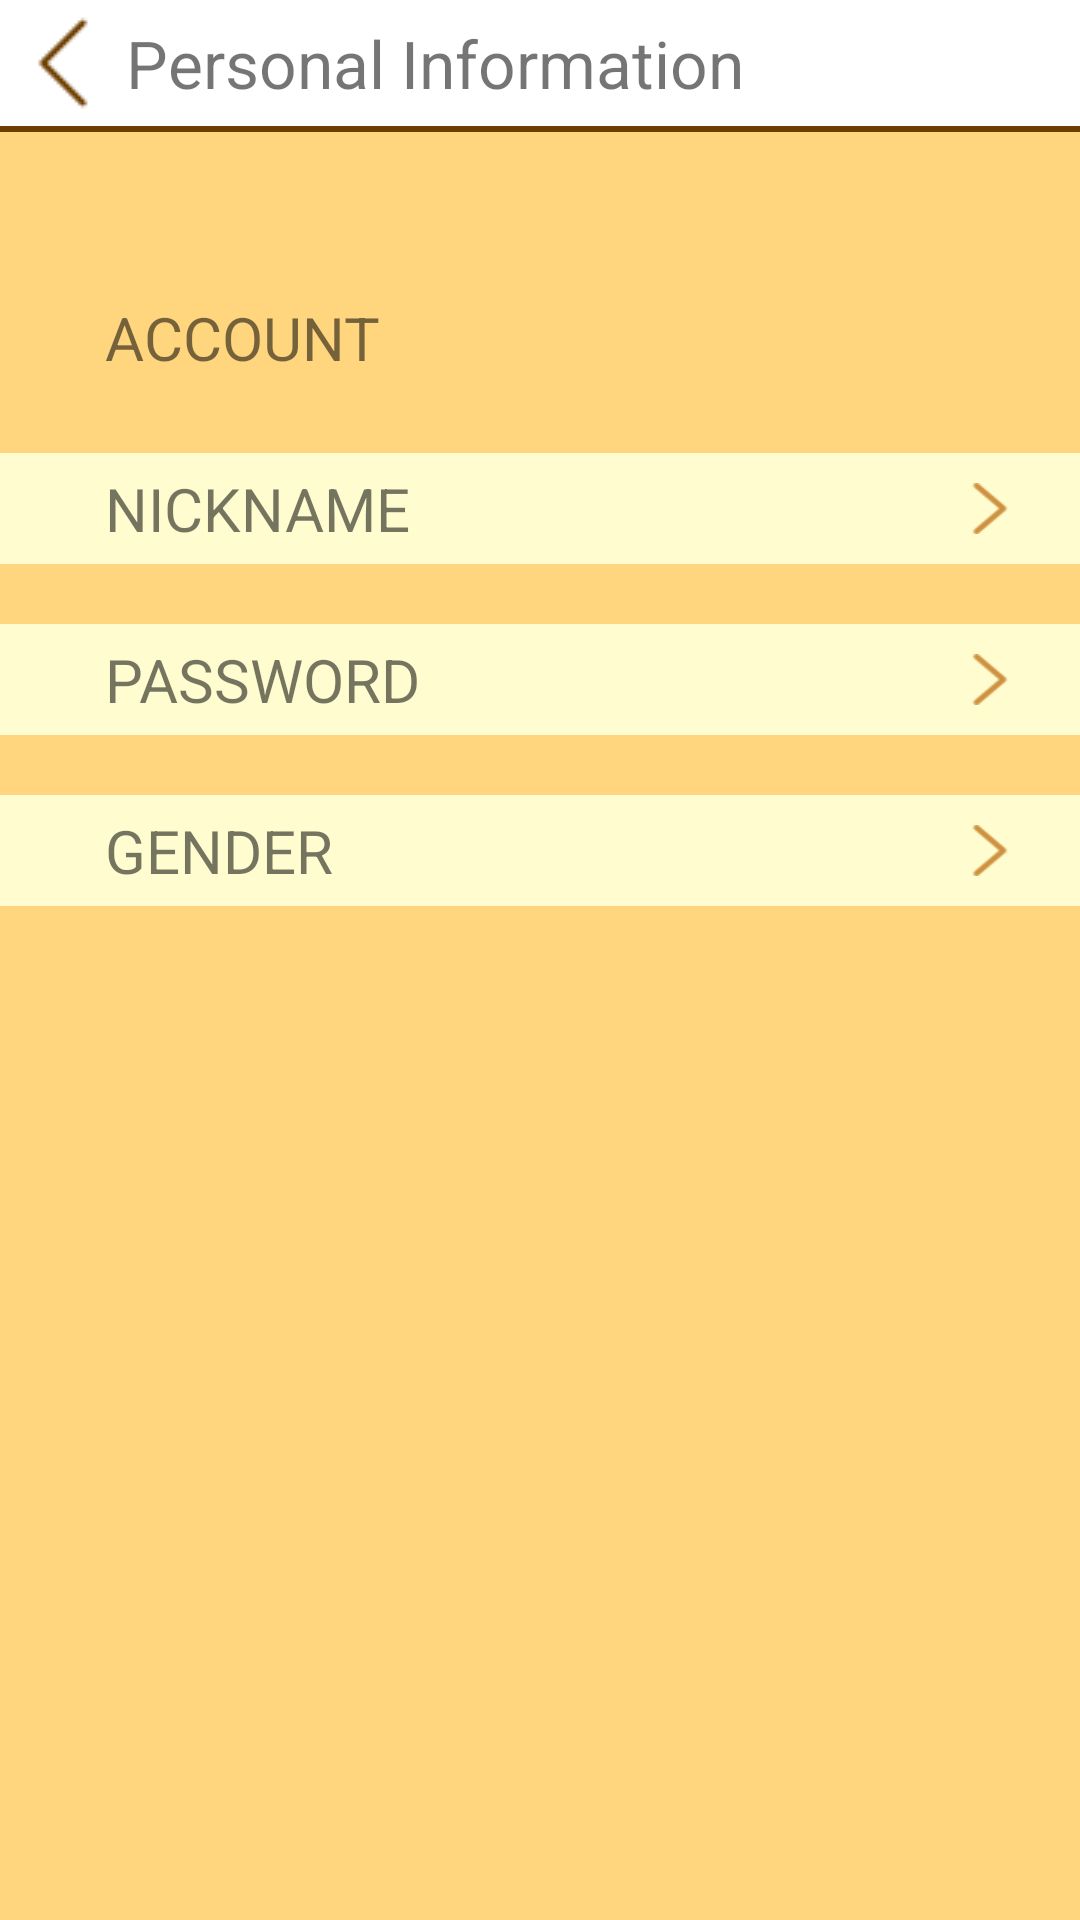

Icon click points for this 1080x1920 phone screenshot, format point (x, y):
arrow: point (990, 508), point (990, 679), point (990, 850)
left arrow: point (63, 63)
